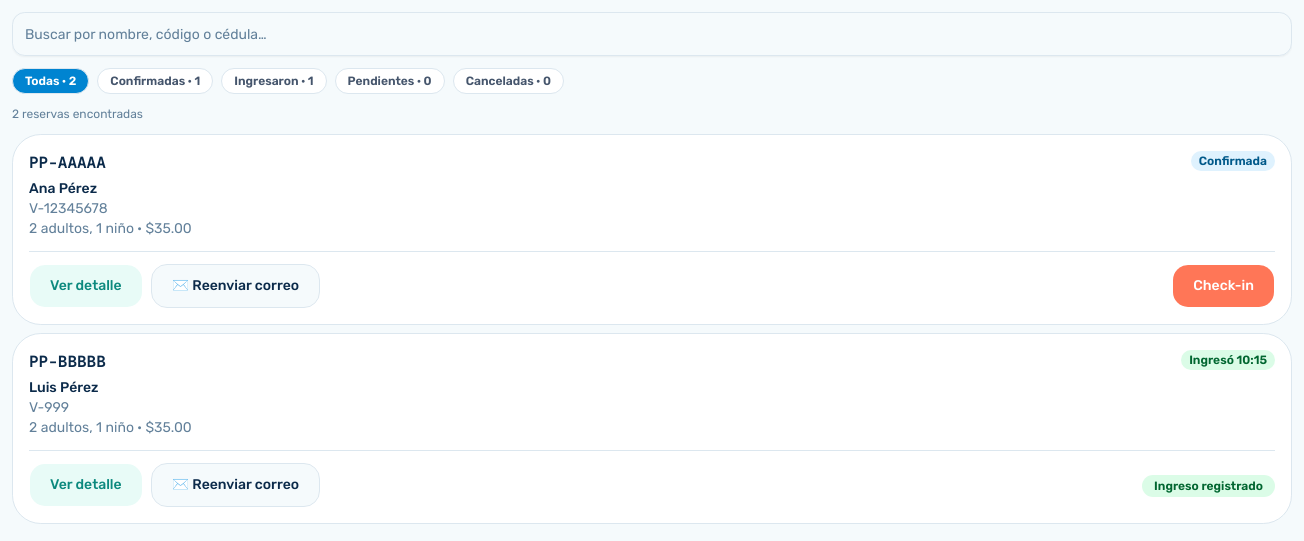
Test: ReservationsTable › filters by status chip
Click the button "Ingresaron · 1": [274, 81] box [221,68,327,94]
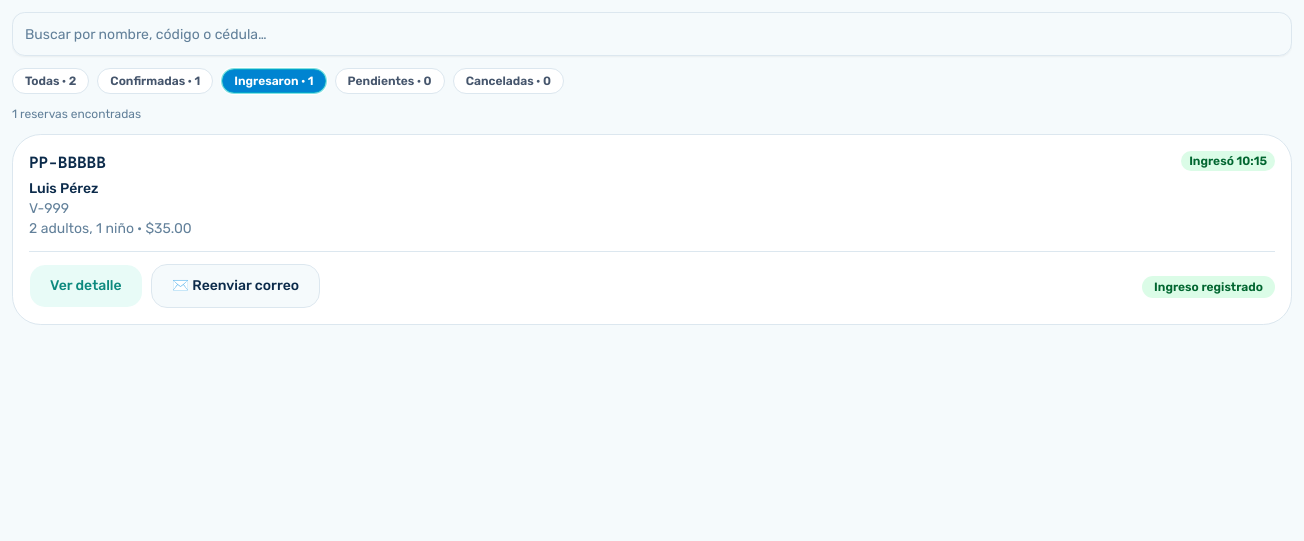
Expected: the text "PP-BBBBB" is shown, [29,151,106,175]
Expected: the number of elements with test id "res-row" is 1, [12,134,1292,325]
